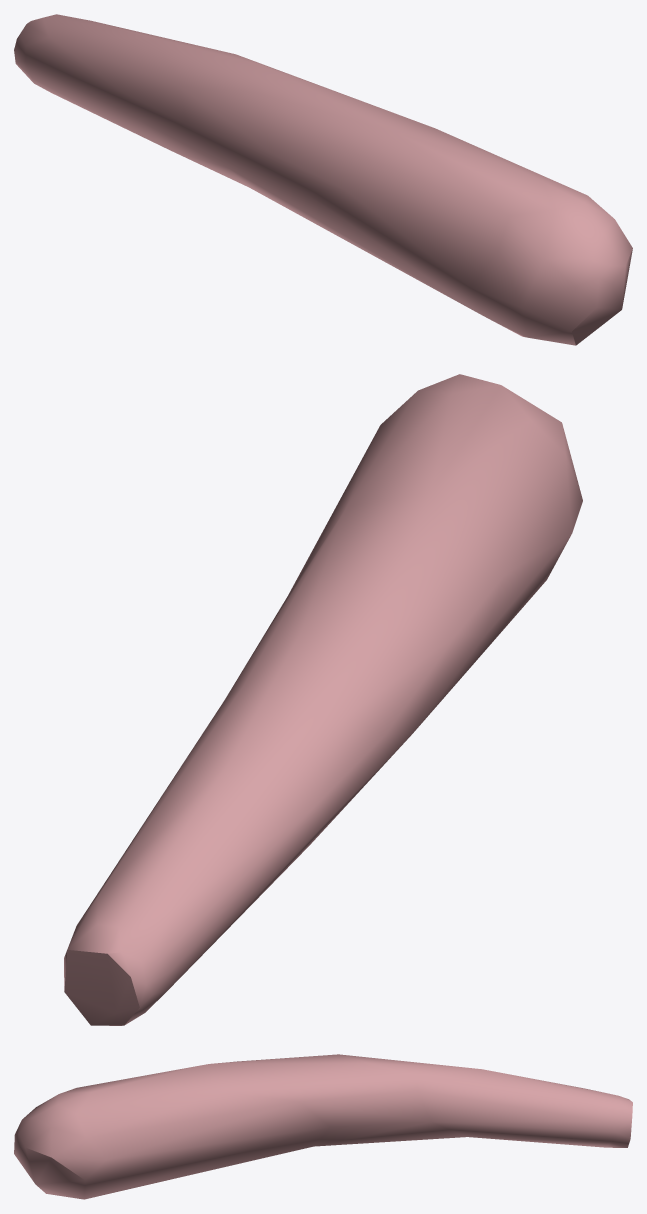
Rendered from fma68213_fj6573.glb.
The picture shows the model from 3 angles, top to bottom: view 1: azimuth 30°, elevation 25°; view 2: azimuth 150°, elevation 25°; view 3: azimuth 270°, elevation 25°; orthographic projection. The views are drawn at different scales.
Visible parts, largest first — view 1: FMA68213_FJ6573; view 2: FMA68213_FJ6573; view 3: FMA68213_FJ6573.
Boxes of the visible parts, bbox=[...] form: FMA68213_FJ6573: bbox=[14, 14, 632, 345]; FMA68213_FJ6573: bbox=[64, 374, 582, 1025]; FMA68213_FJ6573: bbox=[14, 1054, 632, 1199].
Size of the model in its own units: 0.00318 by 0.00204 by 0.0105.
